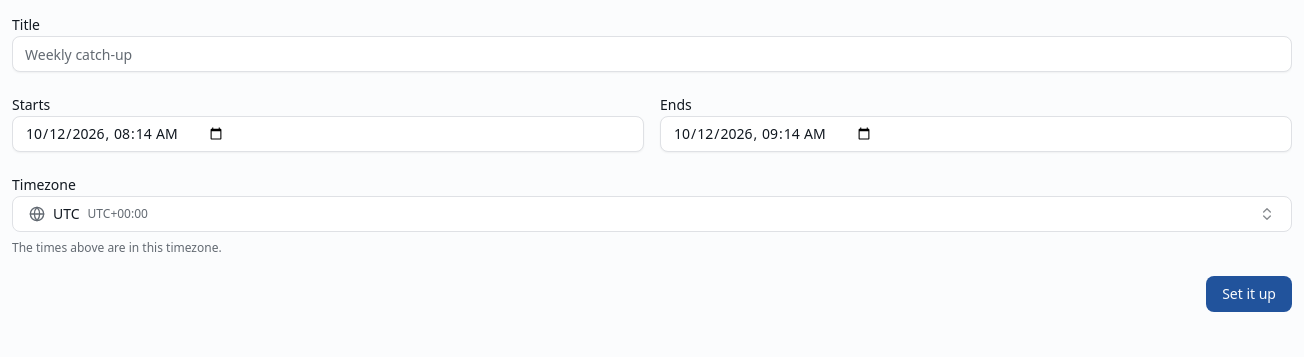
CreateCallPage form › requires a title
Click the button "Set it up": point(1249, 294) [1206,276,1292,312]
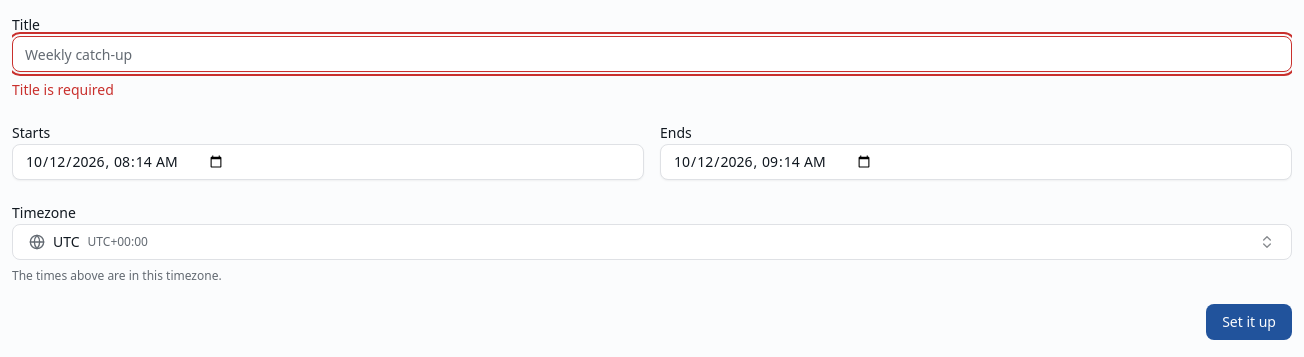
Now the text "Title is required" is shown, box [12,80,114,99]
